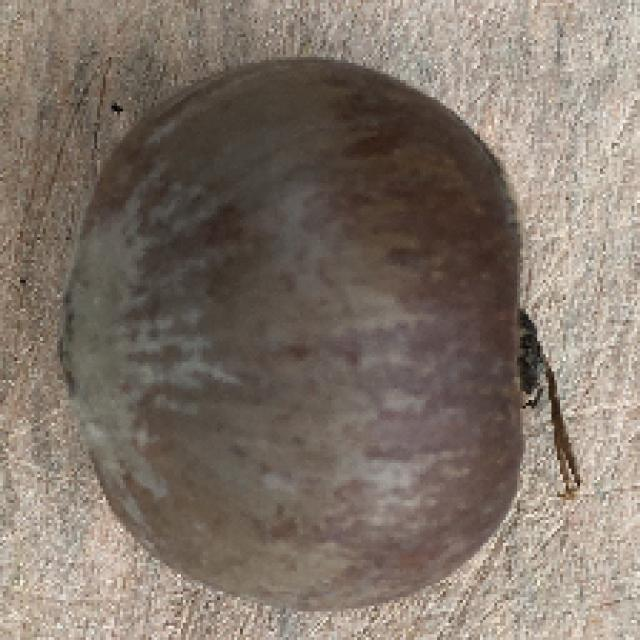damagedHazelnut: (55, 53, 533, 608)
